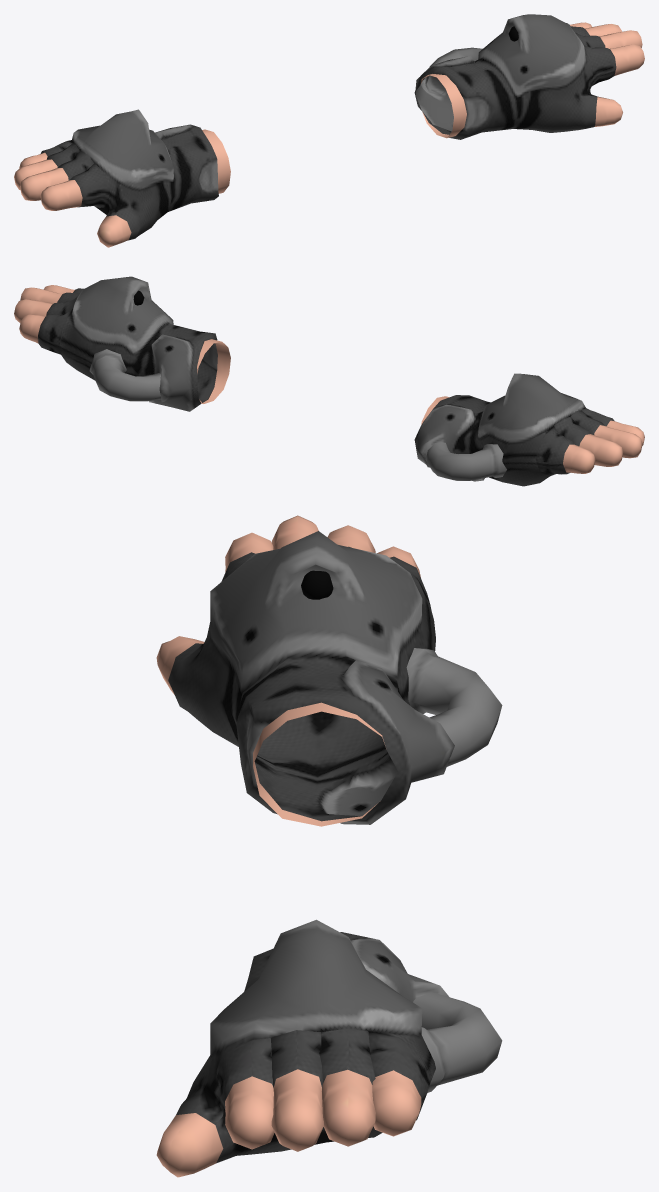
The picture shows the model from 3 angles, top to bottom: view 1: azimuth 30°, elevation 25°; view 2: azimuth 150°, elevation 25°; view 3: azimuth 270°, elevation 25°; orthographic projection. The views are drawn at different scales.
Parts seen in each view (by area): view 1: model_0_submesh_0; view 2: model_0_submesh_0; view 3: model_0_submesh_0.
Boxes of the visible parts, left/top/right/bottom form: model_0_submesh_0: left=14, top=14, right=644, bottom=247; model_0_submesh_0: left=14, top=276, right=644, bottom=486; model_0_submesh_0: left=156, top=515, right=502, bottom=1177.
Bounding box in the file's own units: 1.29 × 0.2134 × 0.3124.
